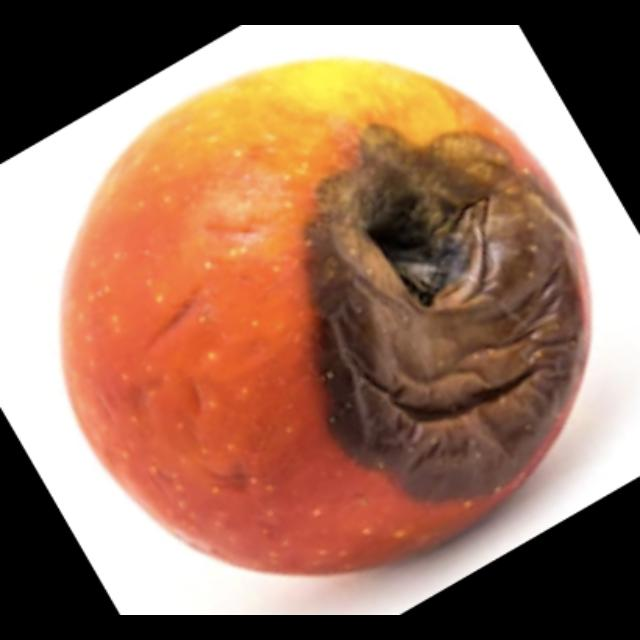Apel Tidak Segar: (61, 58, 595, 576)
